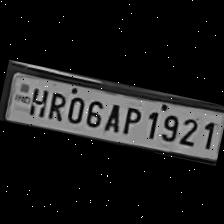0: (61, 90, 87, 124)
1: (138, 104, 162, 140), (194, 116, 218, 150)
2: (175, 111, 201, 146)
6: (81, 94, 107, 128)
9: (154, 109, 180, 143)
A: (100, 97, 125, 133)
H: (24, 82, 48, 116)
P: (117, 100, 143, 136)
R: (42, 86, 67, 122)
